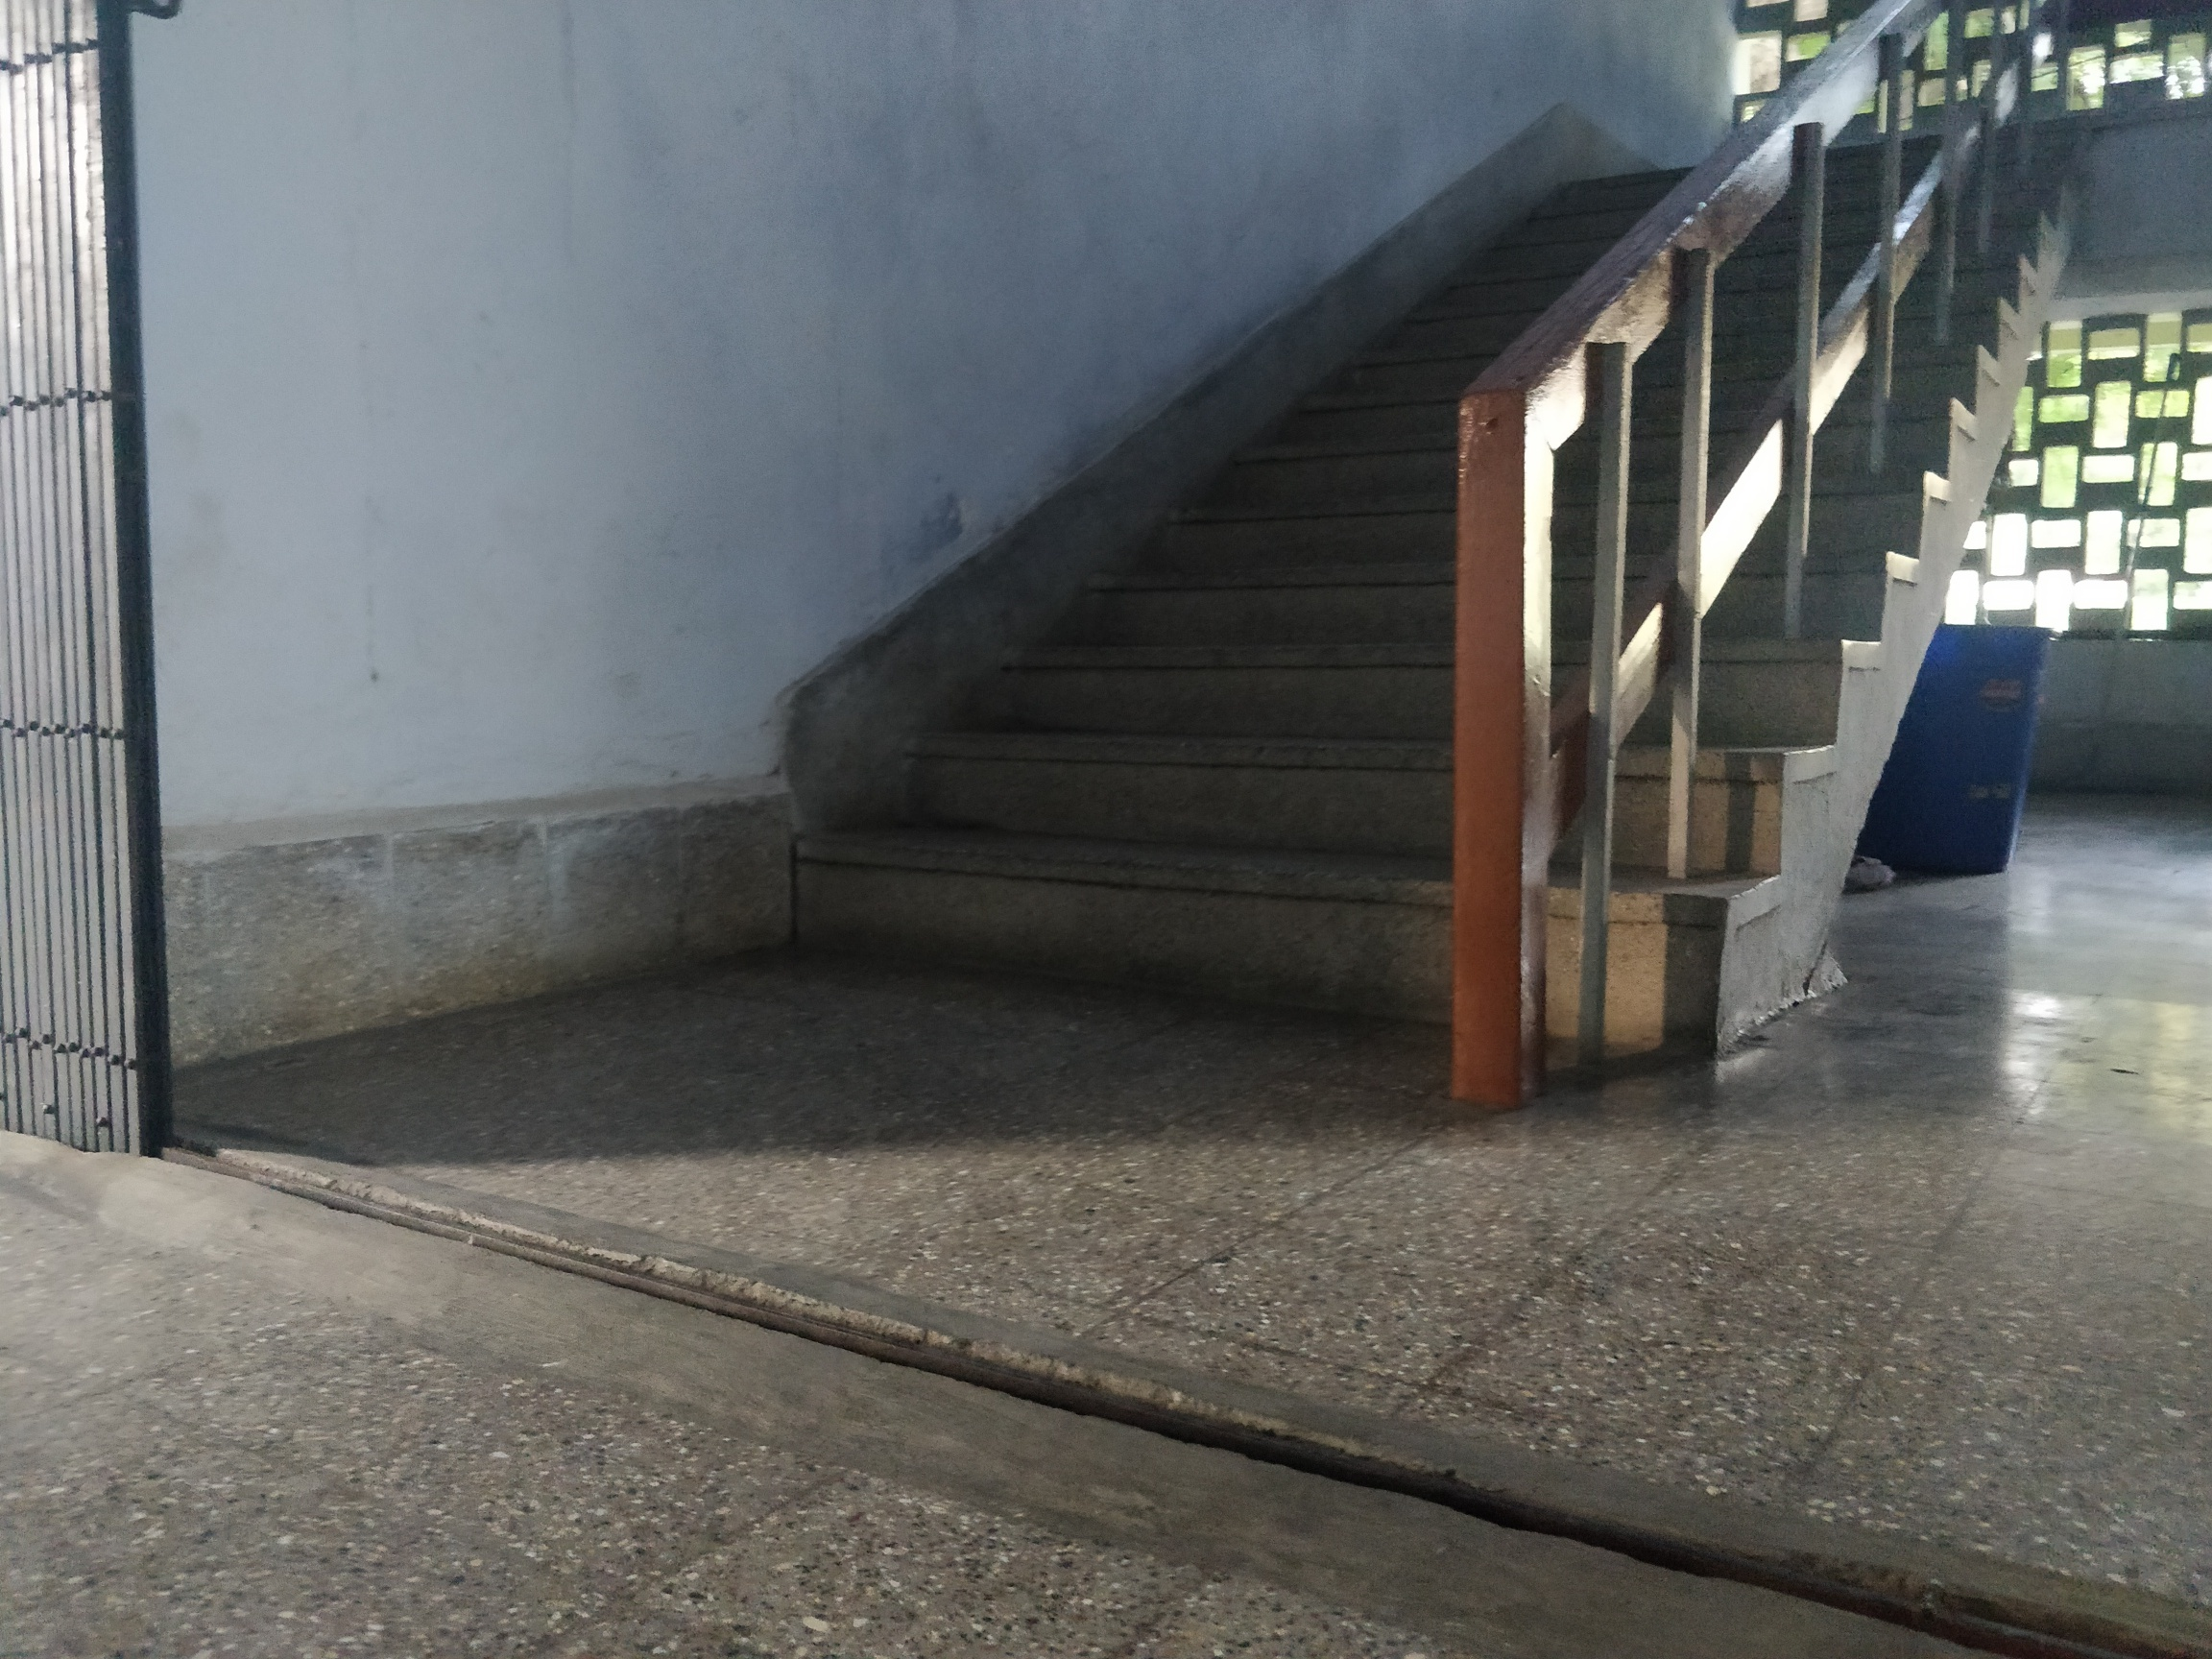stairs_up: (796, 129, 1958, 1082)
